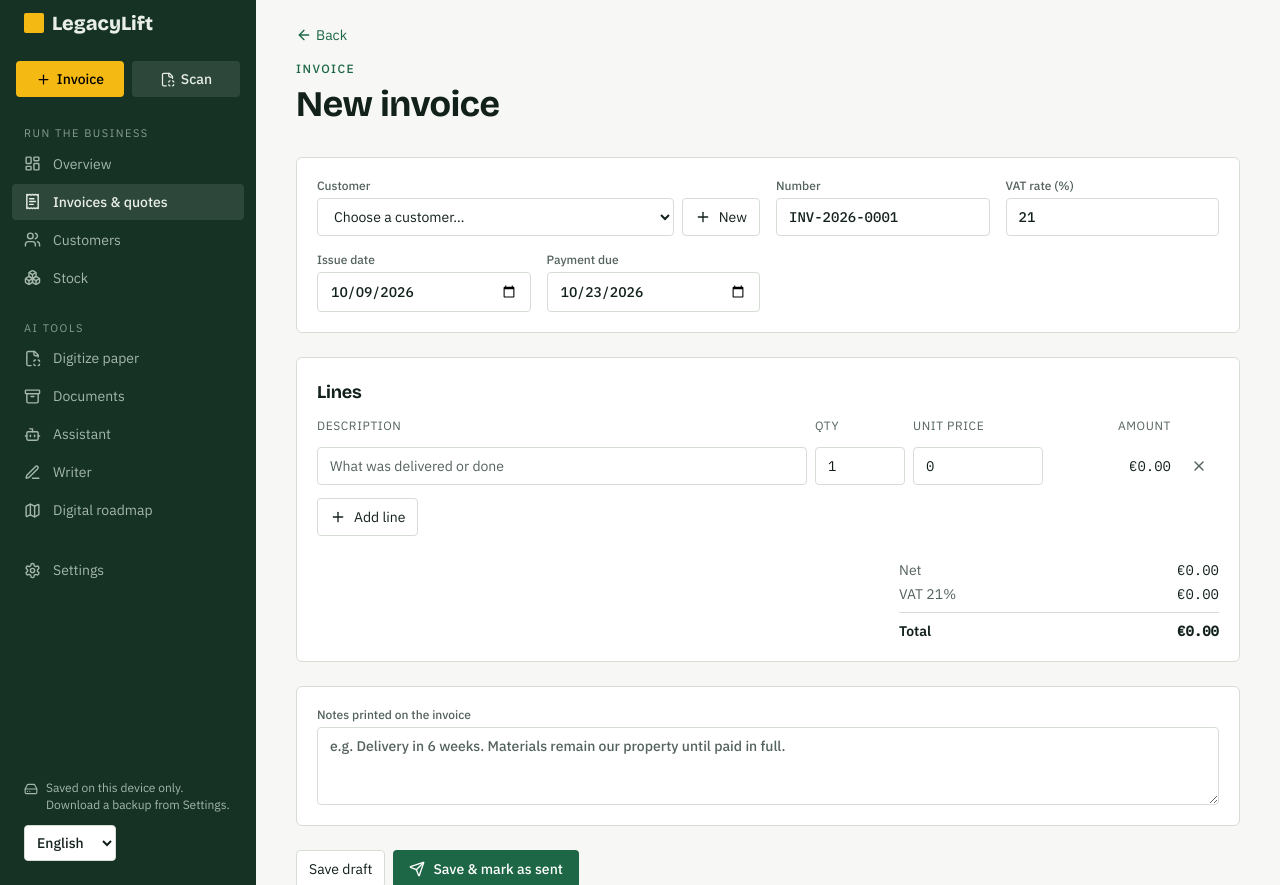
Test: workspace UI › creates an invoice for a new customer
This screenshot has width=1280, height=885.
Click the button "New".
click(721, 217)  # box [682,198,760,236]
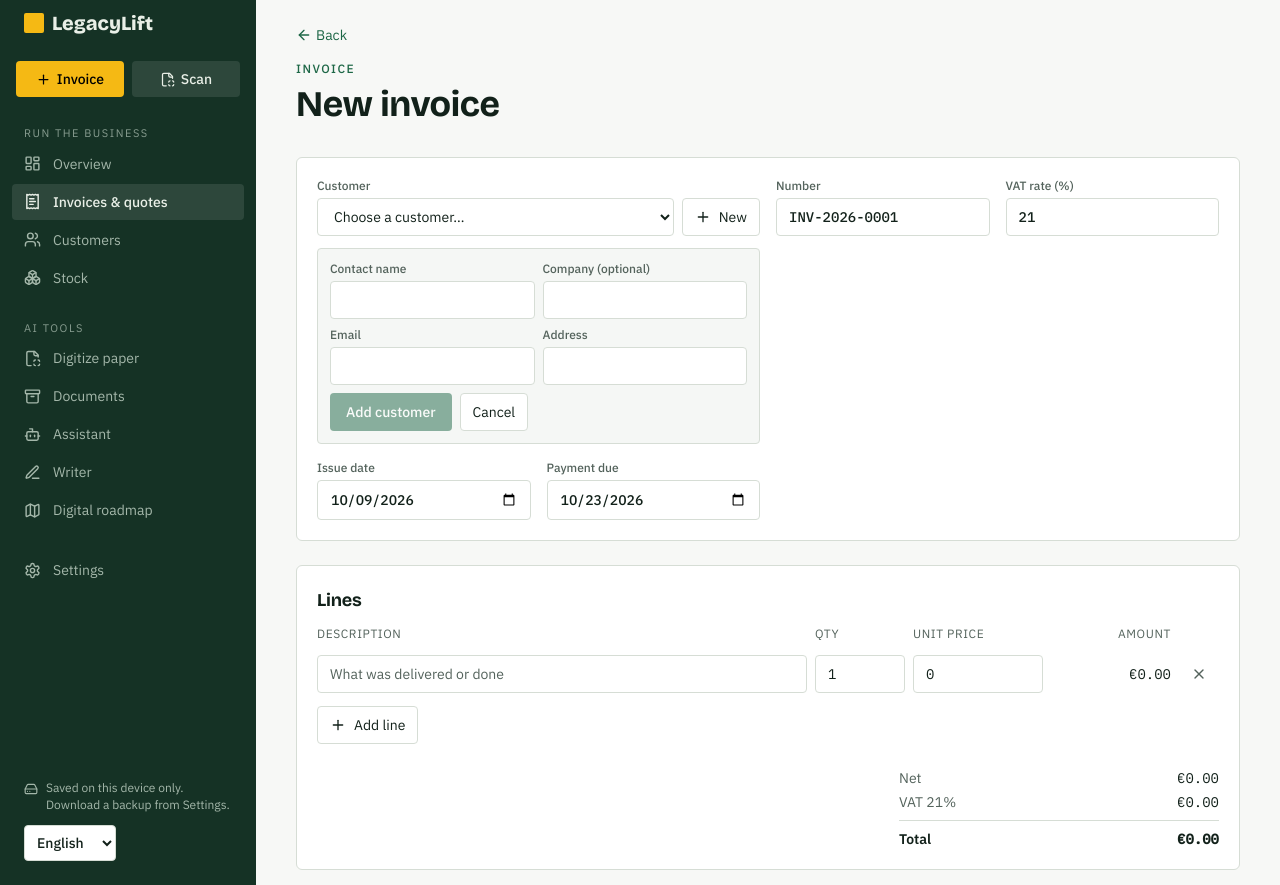
Type "Greta Lind" into the field labelled "Contact name".
click(432, 300); type("Greta Lind")  # box [330,281,534,319]
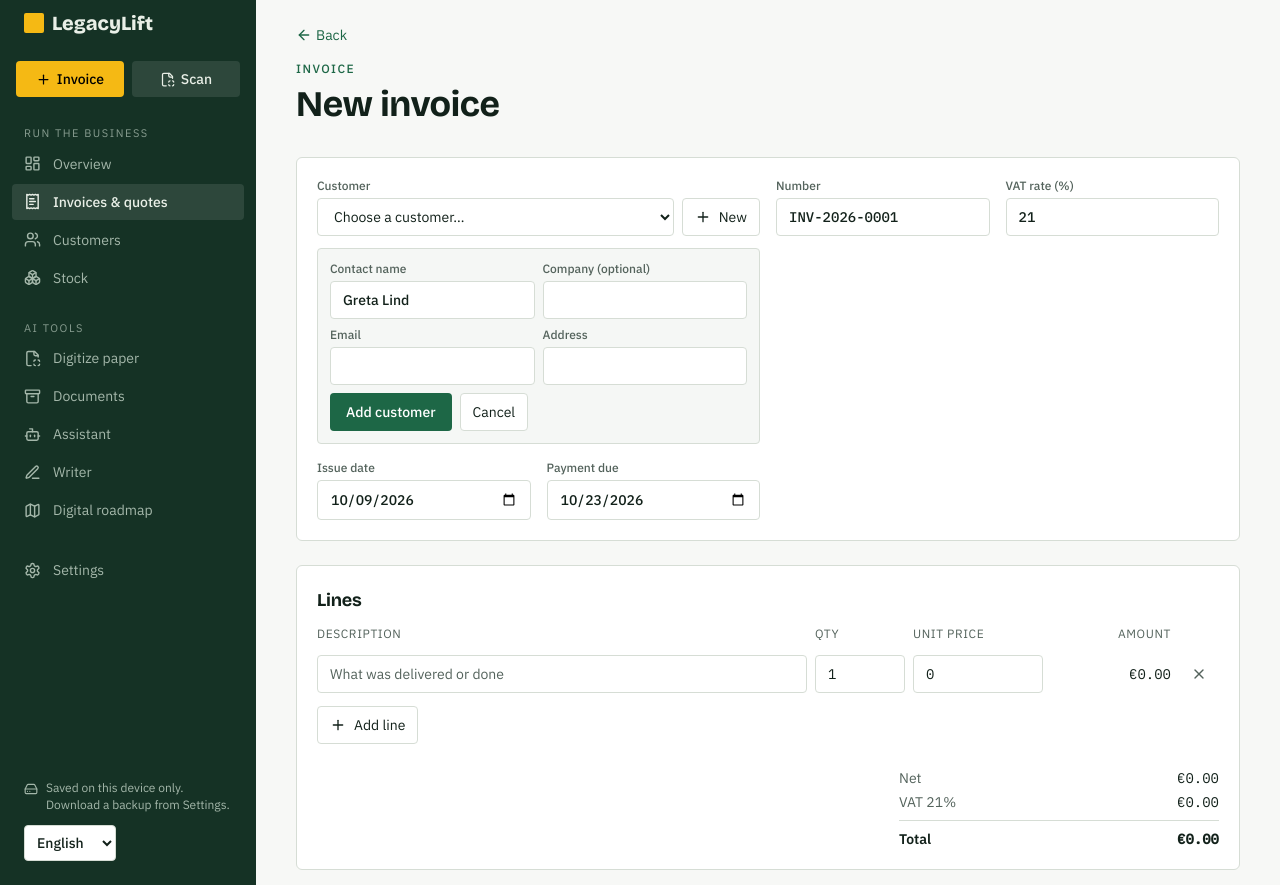
Click the button "Add customer".
click(391, 412)  # box [330,393,452,431]
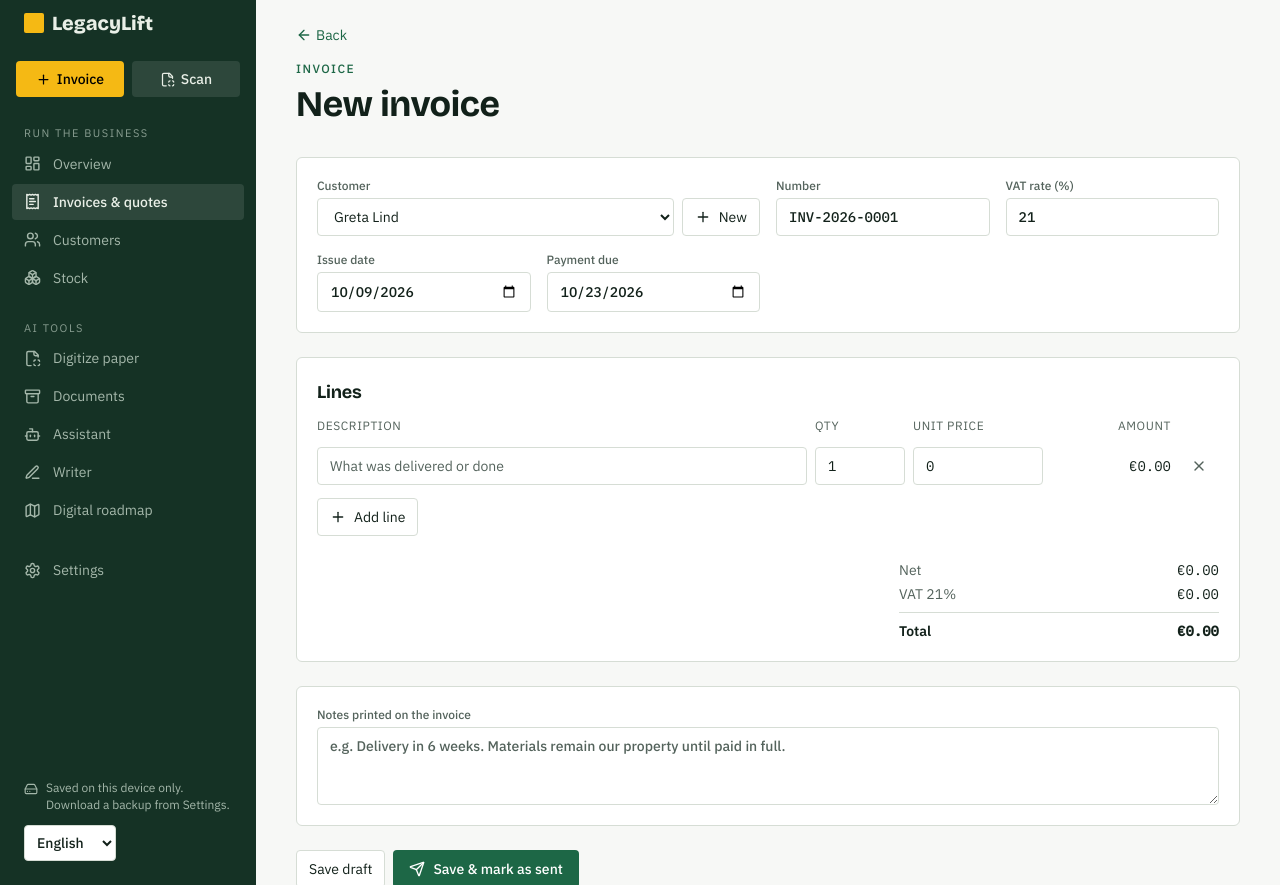
Type "Chair repair" into the field named "line 1 description".
click(562, 466); type("Chair repair")  # box [317,447,807,485]
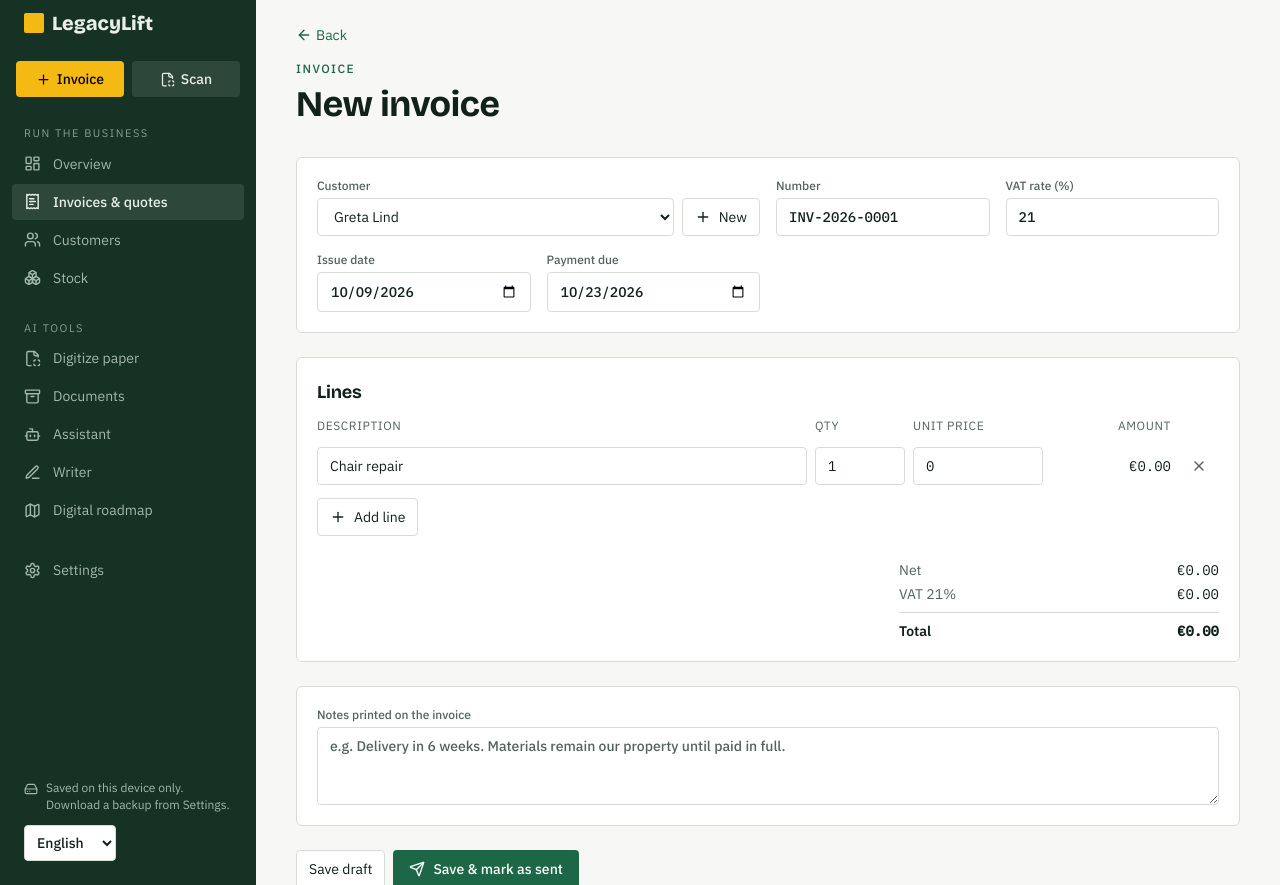
Replace the text in the number field named "line 1 unit price" with "100" at point(978, 466), box [913,447,1043,485]
(page scrolled)
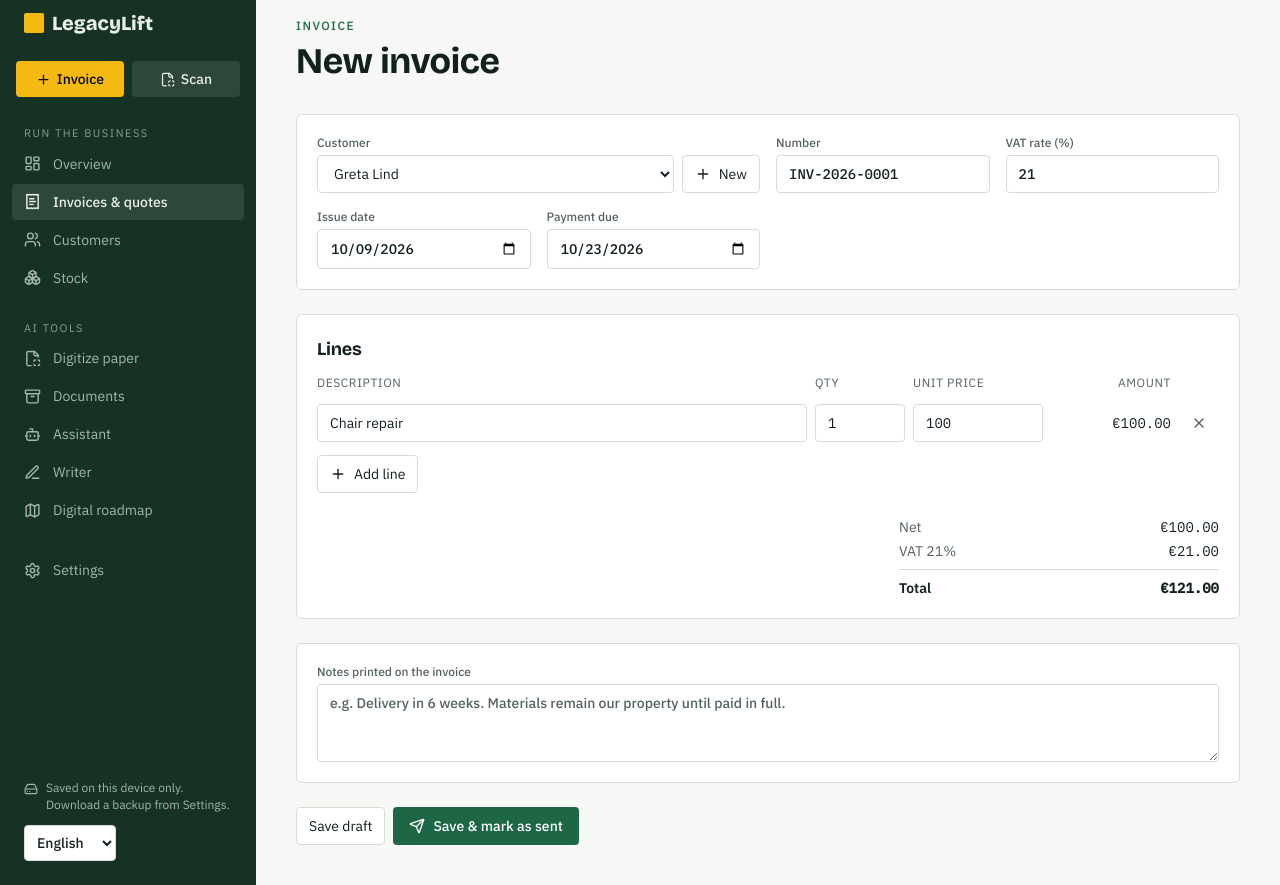
Click the button "Save & mark as sent".
click(486, 826)  # box [393,807,579,845]
(page scrolled)
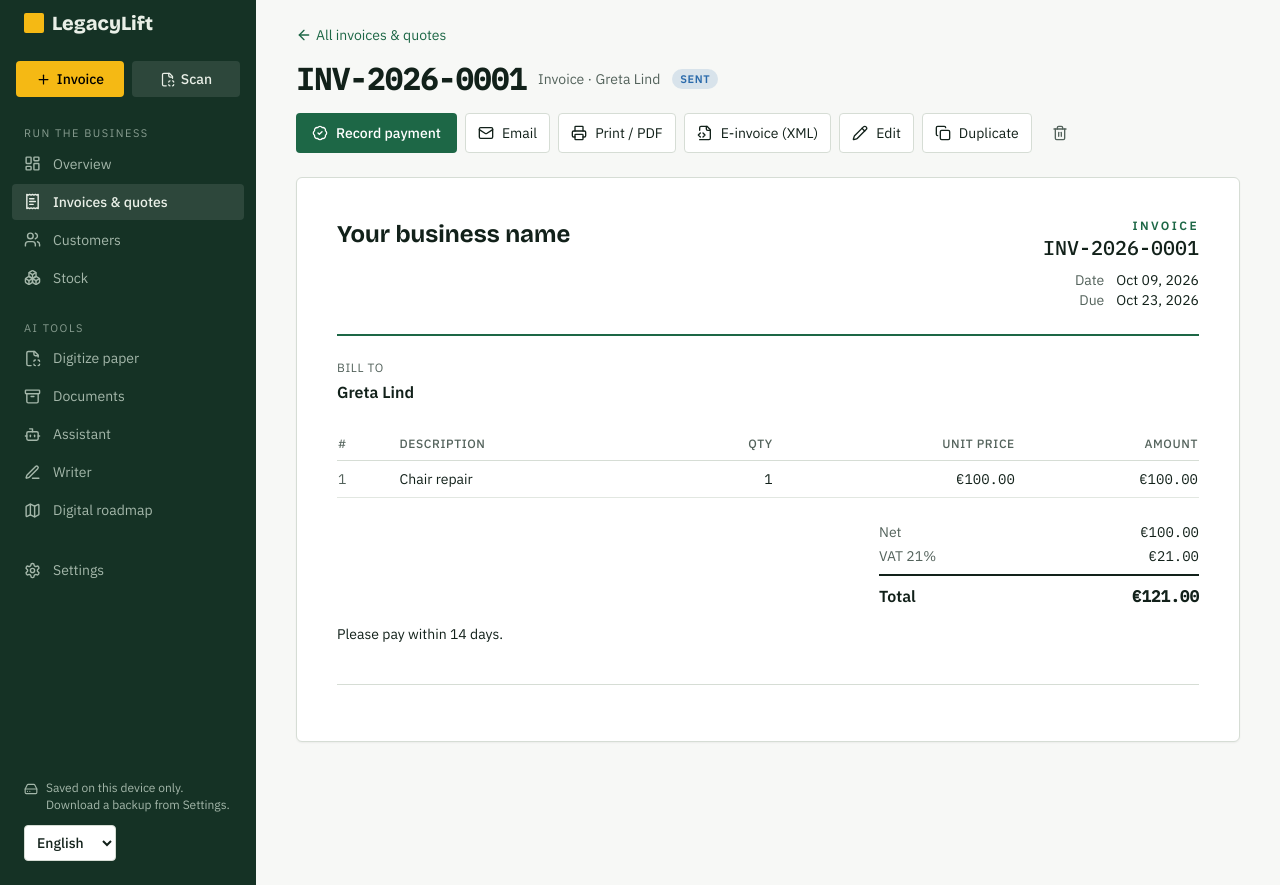
Check: the text "€121.00" is shown, box [1132,586,1199,606]
Check: the text "Greta Lind" is shown, box [337,382,414,402]
